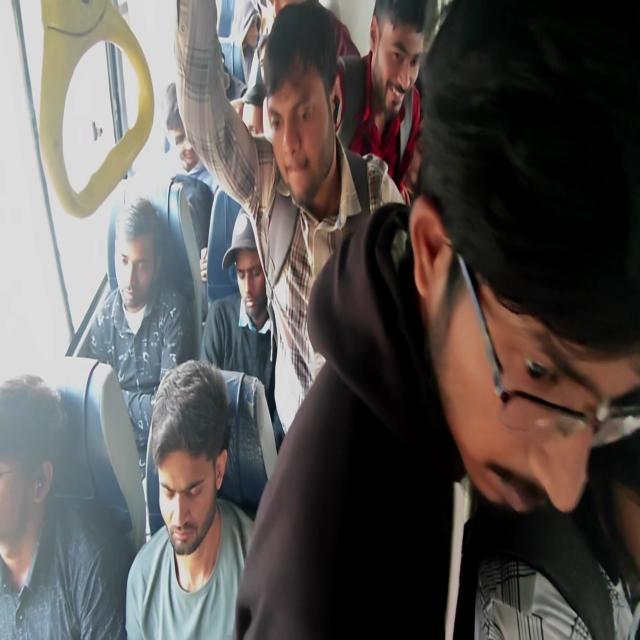person: (412, 57, 626, 493), (0, 380, 77, 640), (157, 415, 259, 572), (224, 231, 309, 359), (164, 103, 231, 231), (120, 216, 182, 328), (385, 15, 425, 124), (276, 50, 303, 184), (225, 0, 262, 55), (246, 104, 278, 157)
